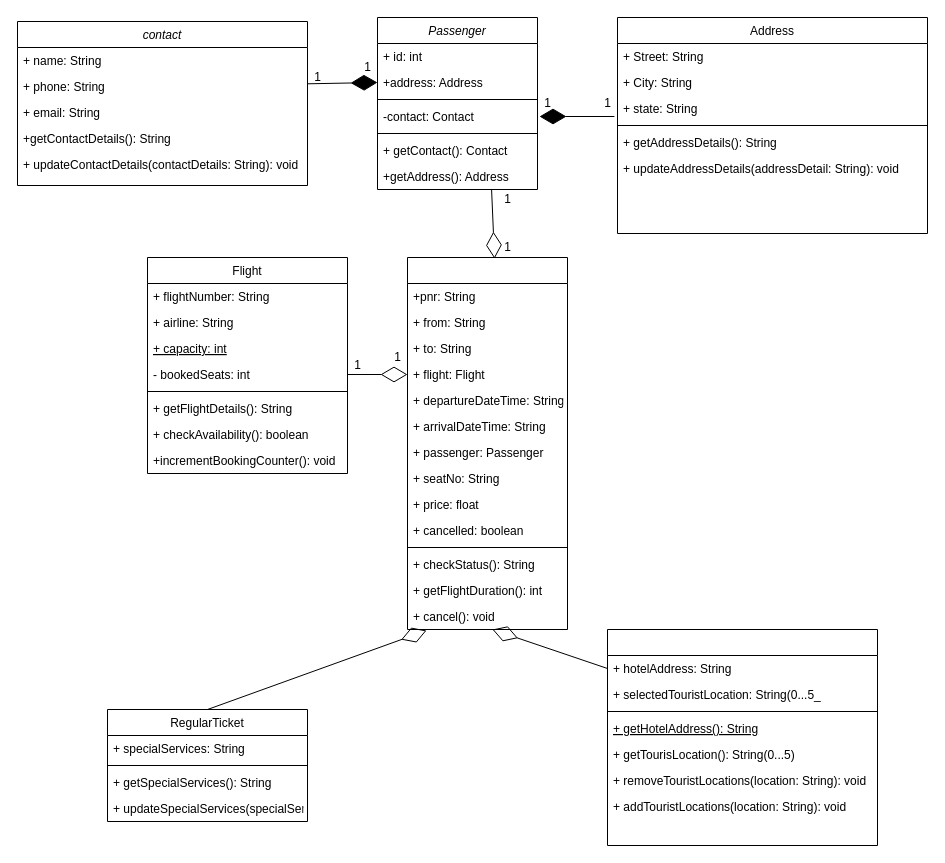
The diagram is 945 pixels wide and 863 high, and some of its shapes have lost their labels. The box of each missing label's shape, as (x1, y1, x2, y2) in pixels:
Ticket: (406, 256, 568, 630)
TouristTicket: (606, 628, 878, 846)
